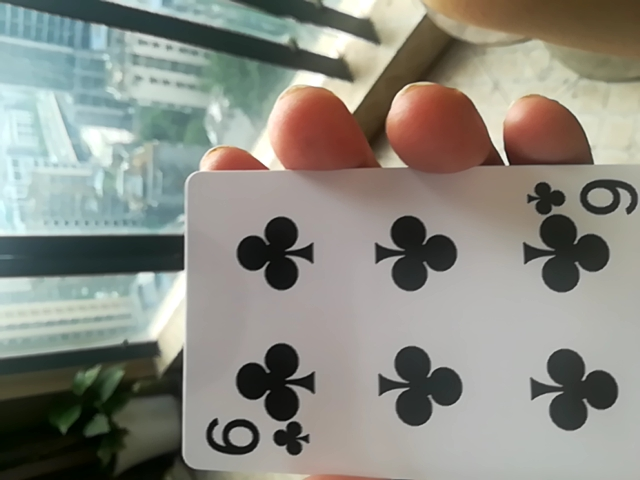mh 6: (176, 144, 640, 480)
